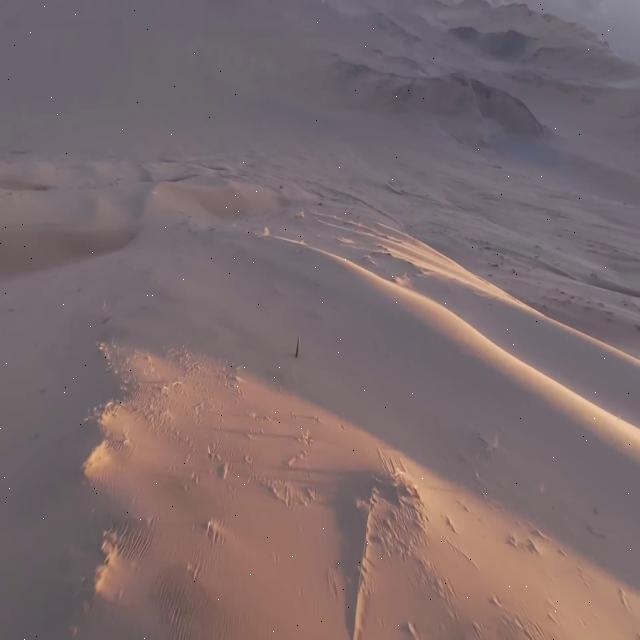Tire: (295, 335, 300, 357)
